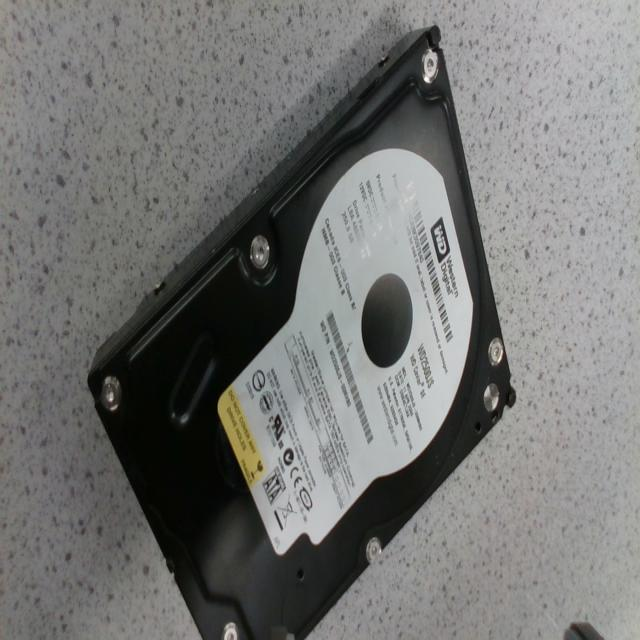label: (218, 149, 472, 554)
lid: (88, 26, 516, 639)
screw: (100, 375, 121, 410), (250, 236, 270, 269), (422, 49, 438, 83), (366, 537, 382, 564), (488, 338, 504, 365), (223, 622, 238, 639)
